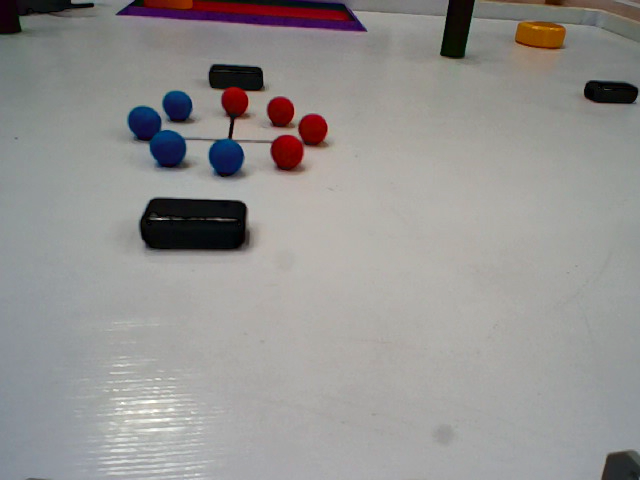black: (141, 196, 259, 260), (578, 80, 637, 106)
blue: (207, 139, 246, 174), (148, 130, 184, 164), (124, 106, 160, 138), (162, 90, 192, 121)
kuang: (108, 1, 374, 34)
red: (270, 132, 303, 167), (263, 93, 296, 125), (298, 113, 328, 142), (222, 85, 249, 115)
yellow: (515, 20, 569, 53)
zhuzi: (434, 1, 480, 60)
